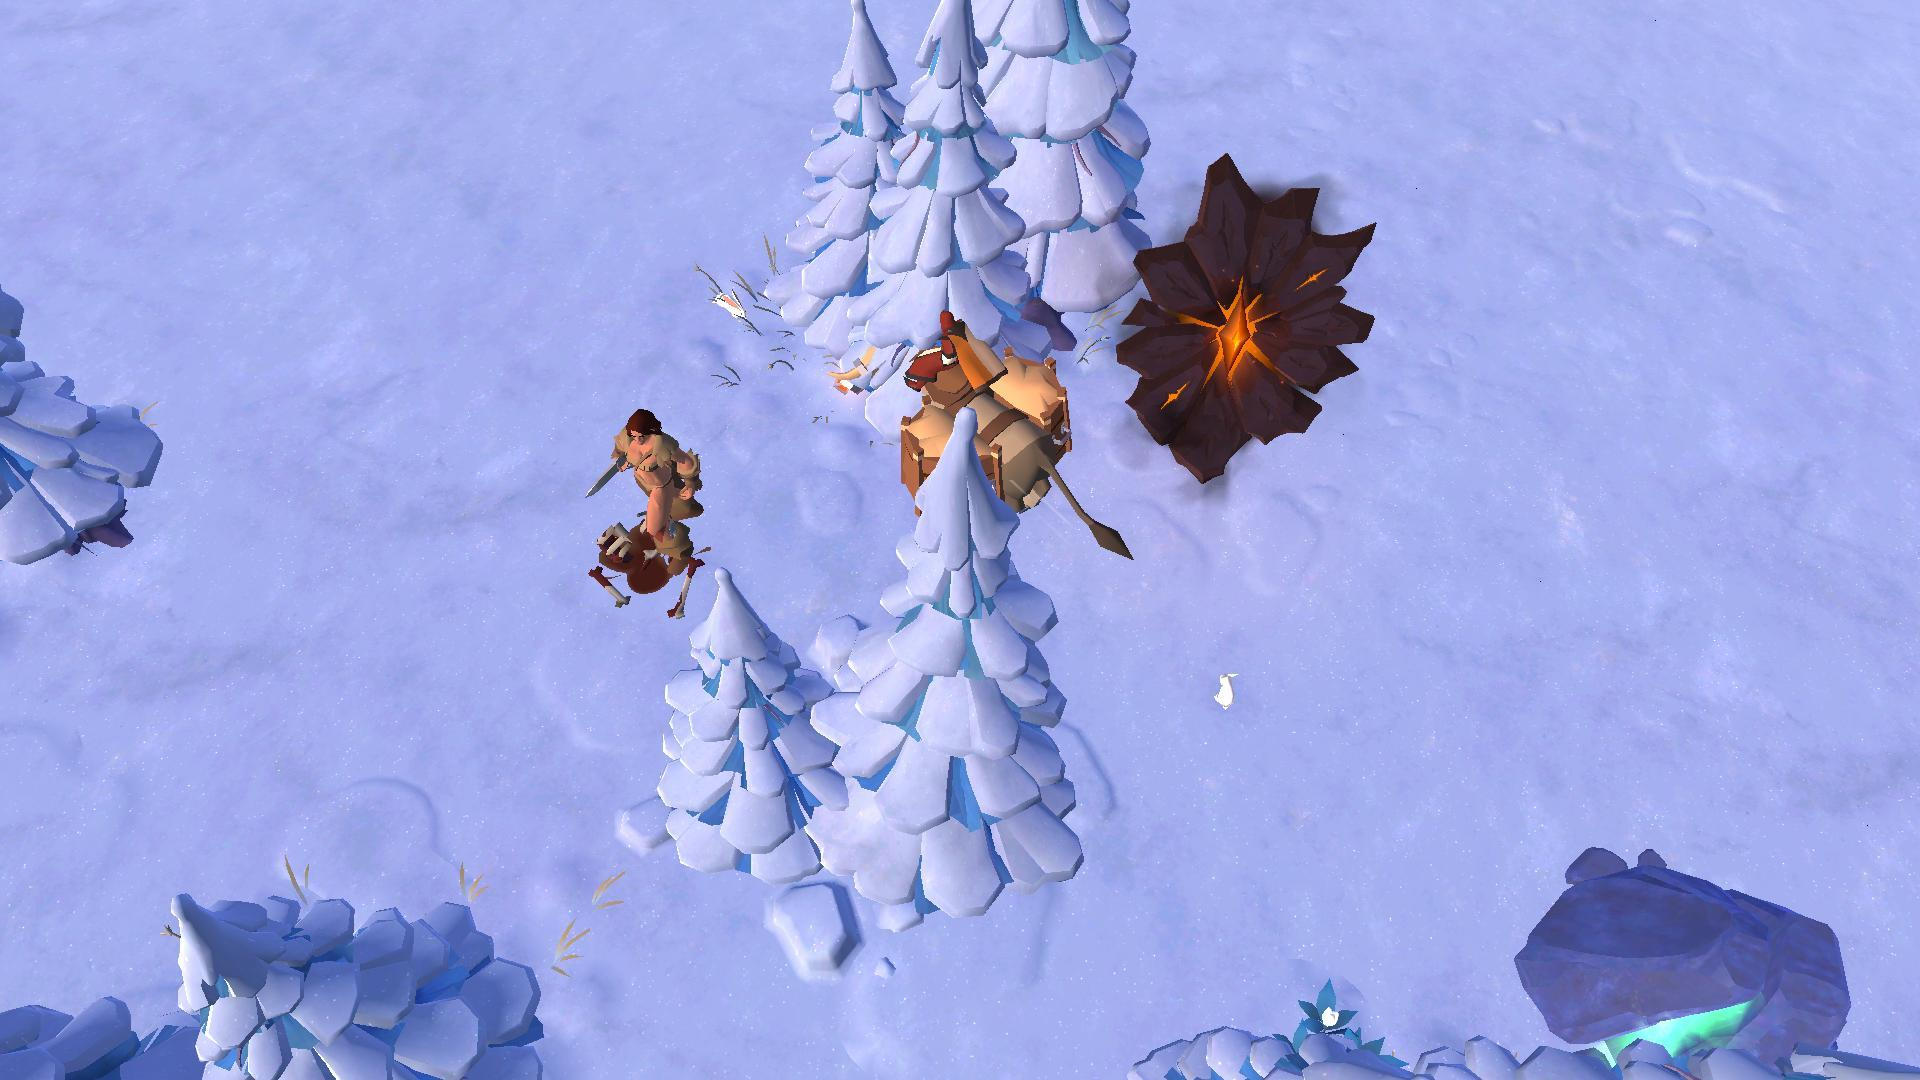enemy_factionKeeper: (591, 405, 705, 570)
